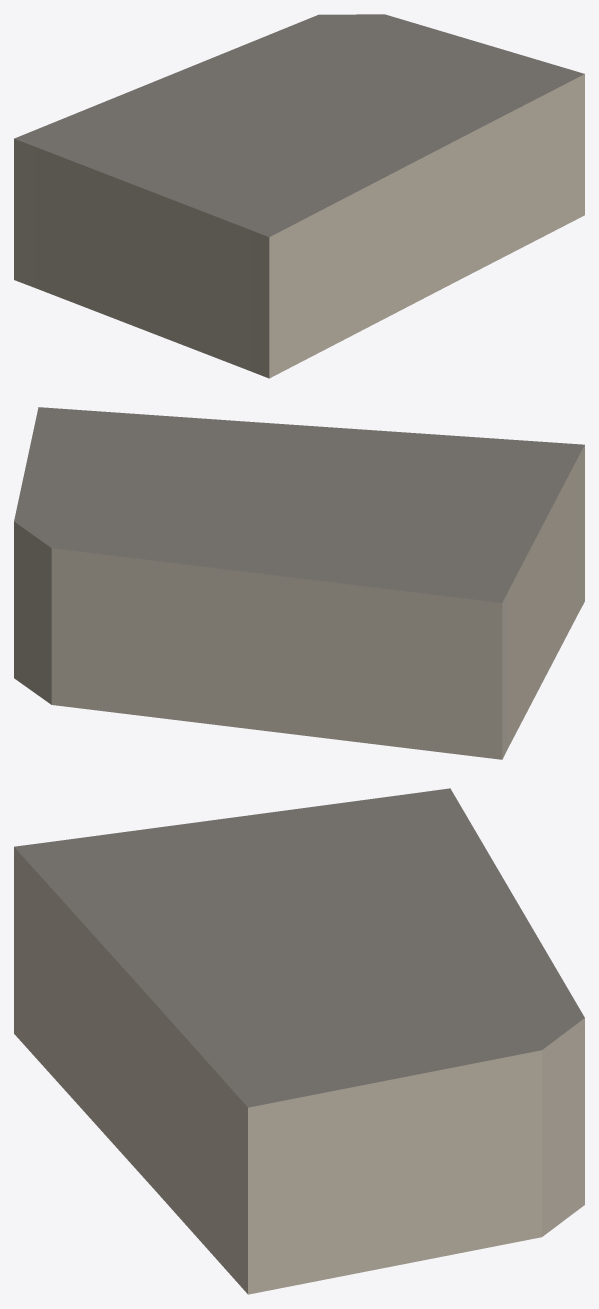
3 views of the same model, one above another, from view 1: azimuth 30°, elevation 25°; view 2: azimuth 150°, elevation 25°; view 3: azimuth 270°, elevation 25° (orthographic). The views are drawn at different scales.
Visible parts, largest first — view 1: HP-w1197020929; view 2: HP-w1197020929; view 3: HP-w1197020929.
Boxes of the visible parts, box(x1,y1,x2,y2) form: HP-w1197020929: box(14, 14, 584, 378); HP-w1197020929: box(14, 407, 584, 759); HP-w1197020929: box(14, 788, 584, 1294).
Bounding box in the file's own units: 43.95 × 12 × 33.21.
